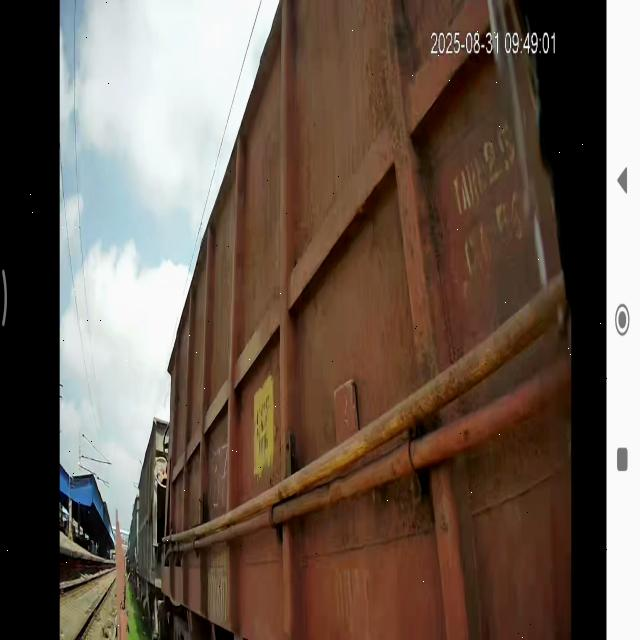coach: (163, 7, 597, 636)
